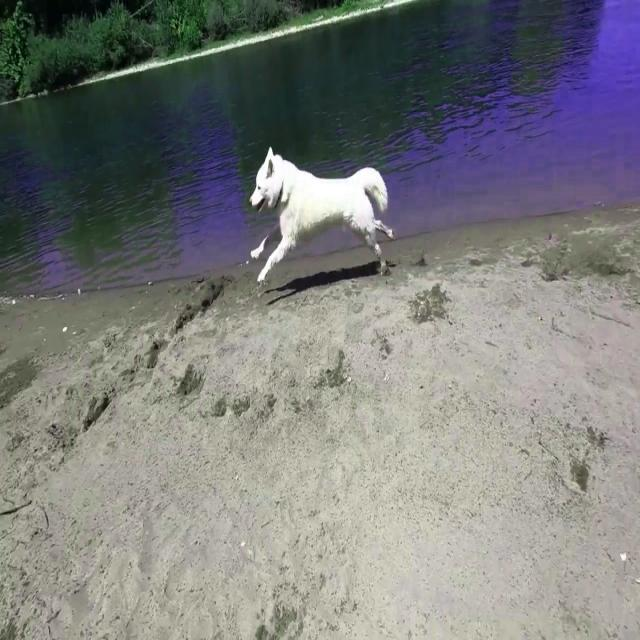Dog: (249, 146, 397, 285)
